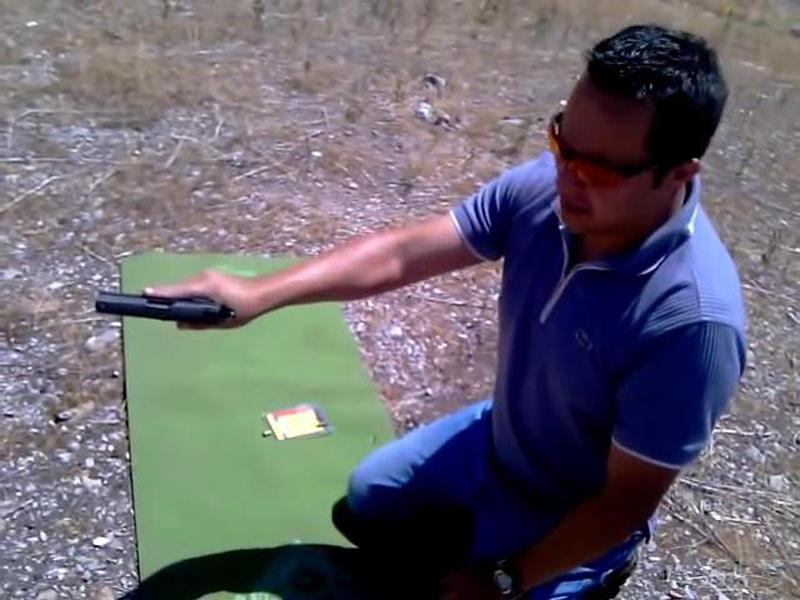Pistola: (86, 273, 239, 346)
